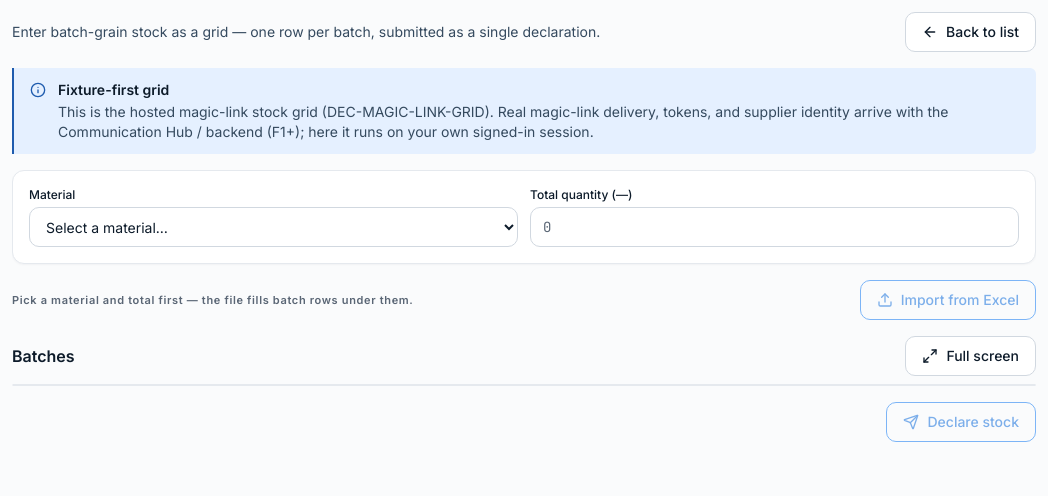
Test: BulkStockEntryGrid — the Σ banner reads the ONE parse (CP-0 · 2d) › a READABLE total renders in the banner
Select "PK-PETB-8810 — PET Bottle 250ml (PCS)" in the dropdown with id "sdcsup-bulk-material" at (274, 227), box x1=29 y1=207 x2=518 y2=247
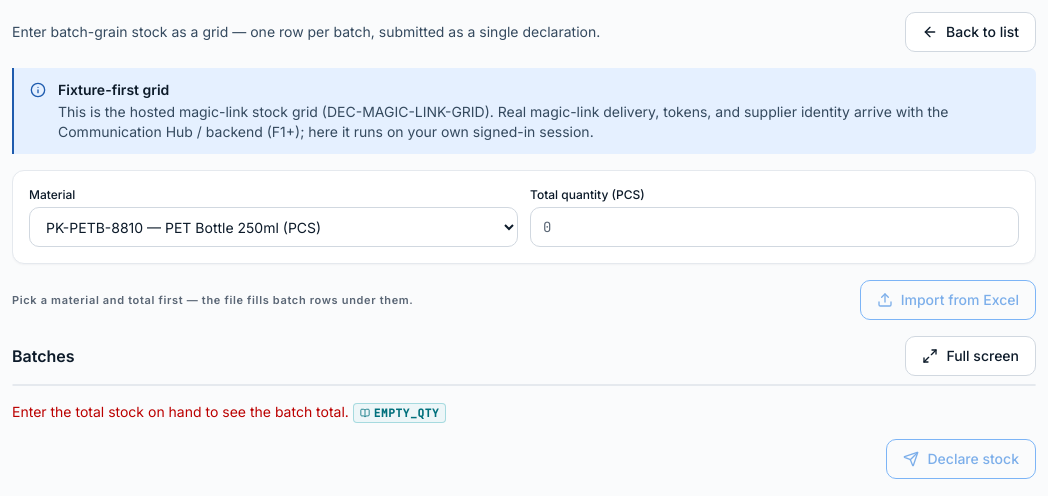
Type "4000" into the field with id "sdcsup-bulk-total" at (774, 227), box x1=530 y1=207 x2=1019 y2=247
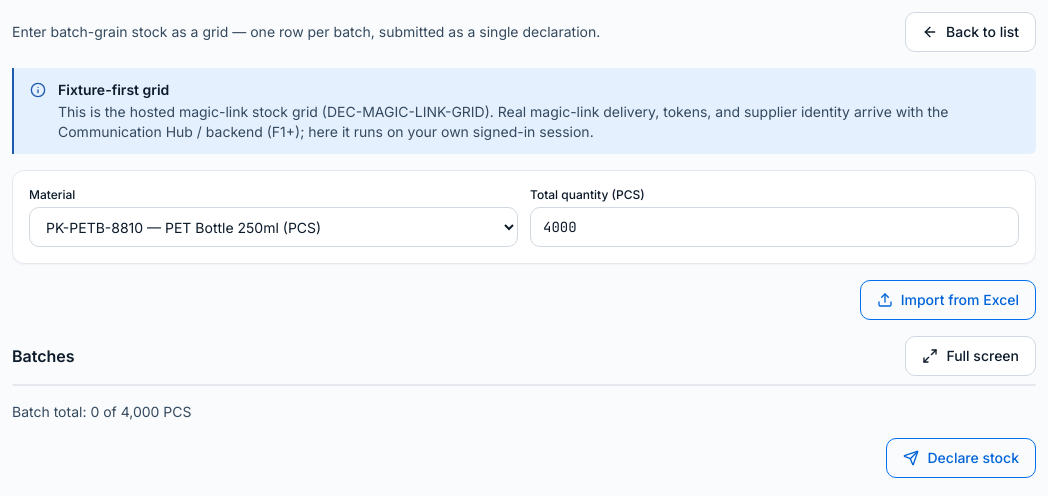
Expected: the text with test id "sdcsup-bulk-summary" shows "4,000", x1=12 y1=403 x2=192 y2=420
